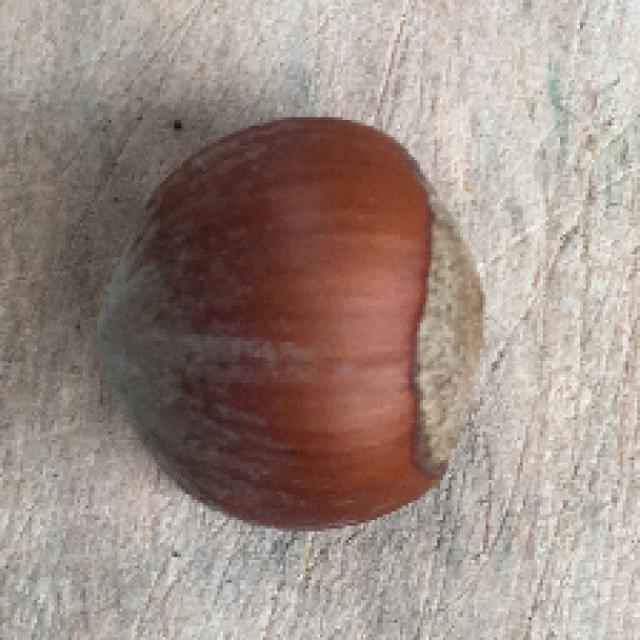qualityHazelnut: (86, 110, 493, 528)
